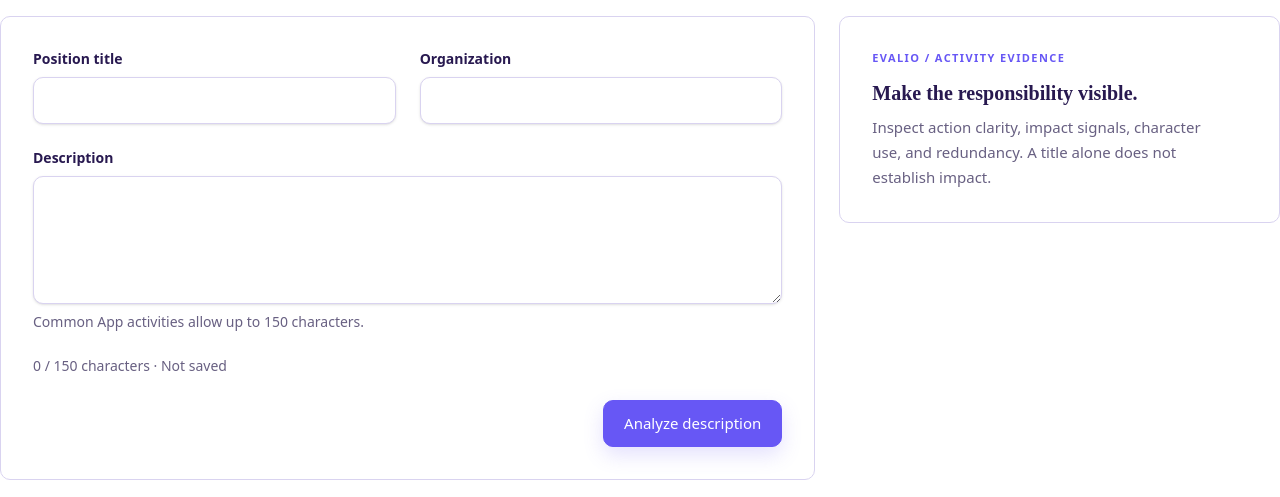
Test: business components › submits and renders activity analysis
The image size is (1280, 497).
In the text box labelled "Description": {"x": 408, "y": 240} [33, 176, 782, 304], type "Led 12 students through weekly workshops"
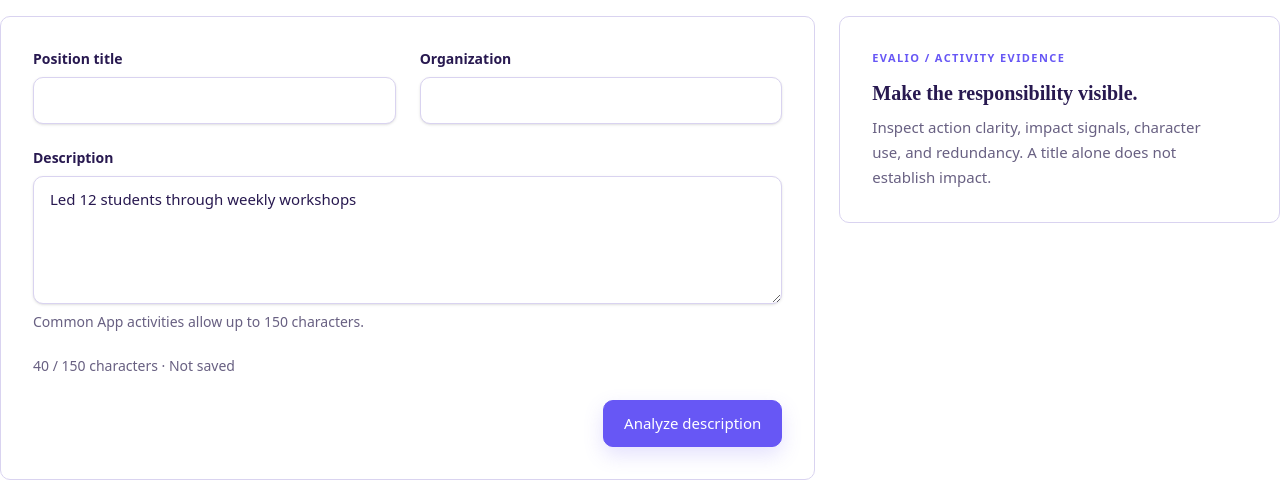
Submit the form named "Analyze description", box [33, 49, 782, 447]
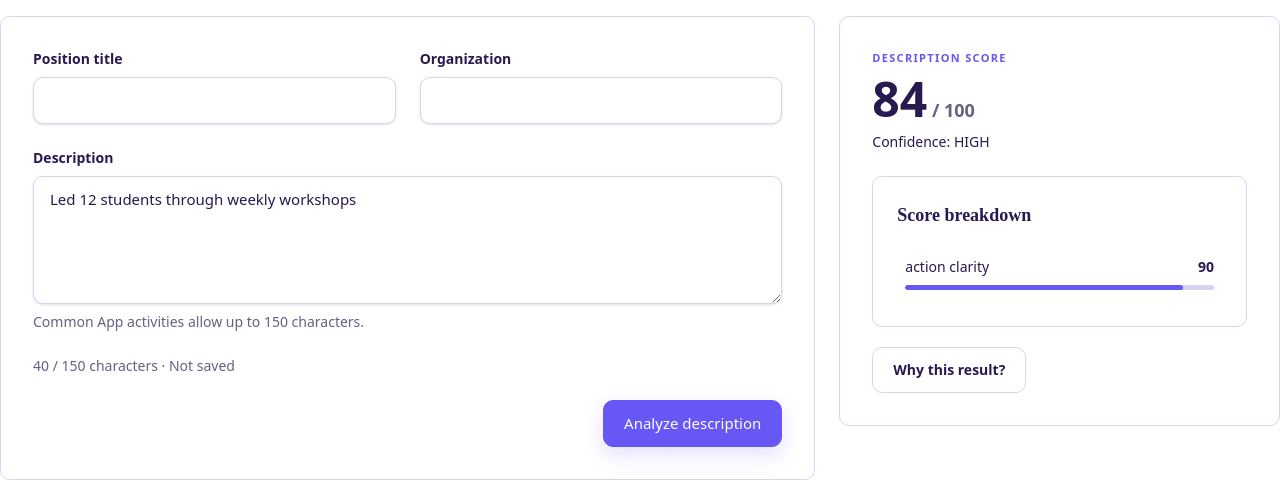
expect the text "84" is shown: met, box [872, 66, 927, 131]
expect the text "Confidence: HIGH" is shown: met, box [872, 132, 990, 151]
